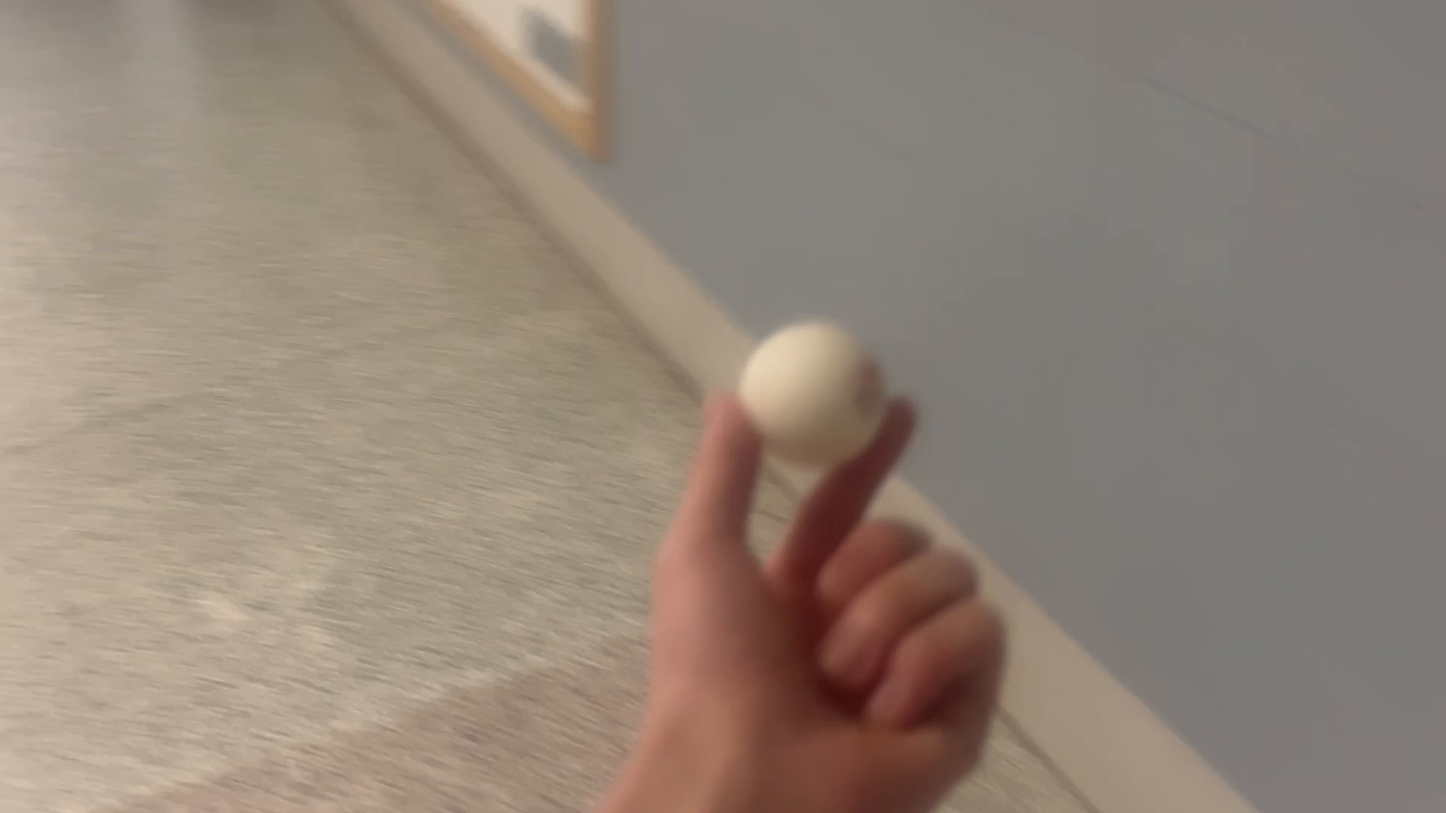Ball: (744, 308, 898, 474)
